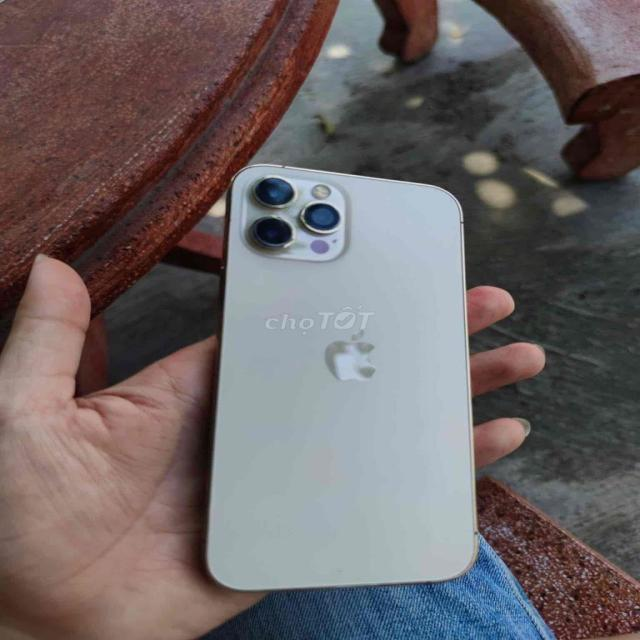gen_12_13: (207, 160, 504, 596)
